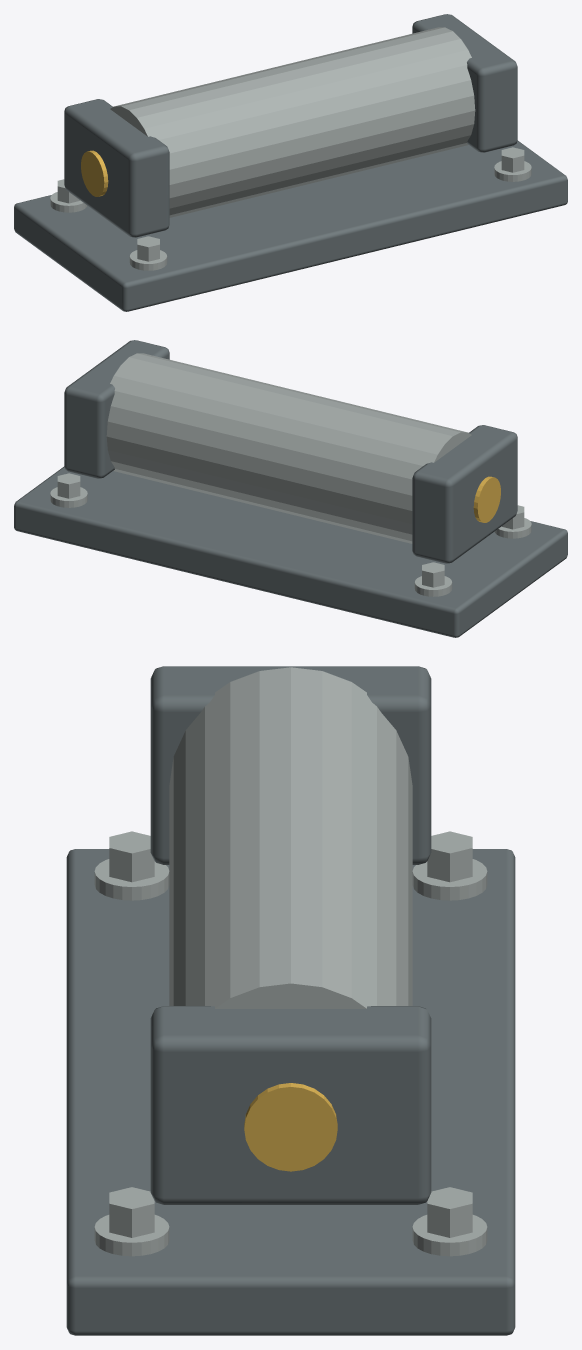
File: automated-parking-and-vehicle-retrieval-automated-park-f9d7eb6f__30356.glb
3 renders of one model, top to bottom at view 1: azimuth 30°, elevation 25°; view 2: azimuth 150°, elevation 25°; view 3: azimuth 270°, elevation 25°, orthographic. The views are drawn at different scales.
Parts seen in each view (by area): view 1: automated-parking-and-vehicle-retrieval-pallet-roller-assemb (×3); view 2: automated-parking-and-vehicle-retrieval-pallet-roller-assemb (×3); view 3: automated-parking-and-vehicle-retrieval-pallet-roller-assemb (×3).
Part boxes in pixels (x1=…): automated-parking-and-vehicle-retrieval-pallet-roller-assemb (×3): x1=14, y1=14, x2=567, y2=311; automated-parking-and-vehicle-retrieval-pallet-roller-assemb (×3): x1=14, y1=340, x2=567, y2=637; automated-parking-and-vehicle-retrieval-pallet-roller-assemb (×3): x1=66, y1=666, x2=515, y2=1335.
Size of the model in its own units: 0.55 by 0.175 by 0.24.
